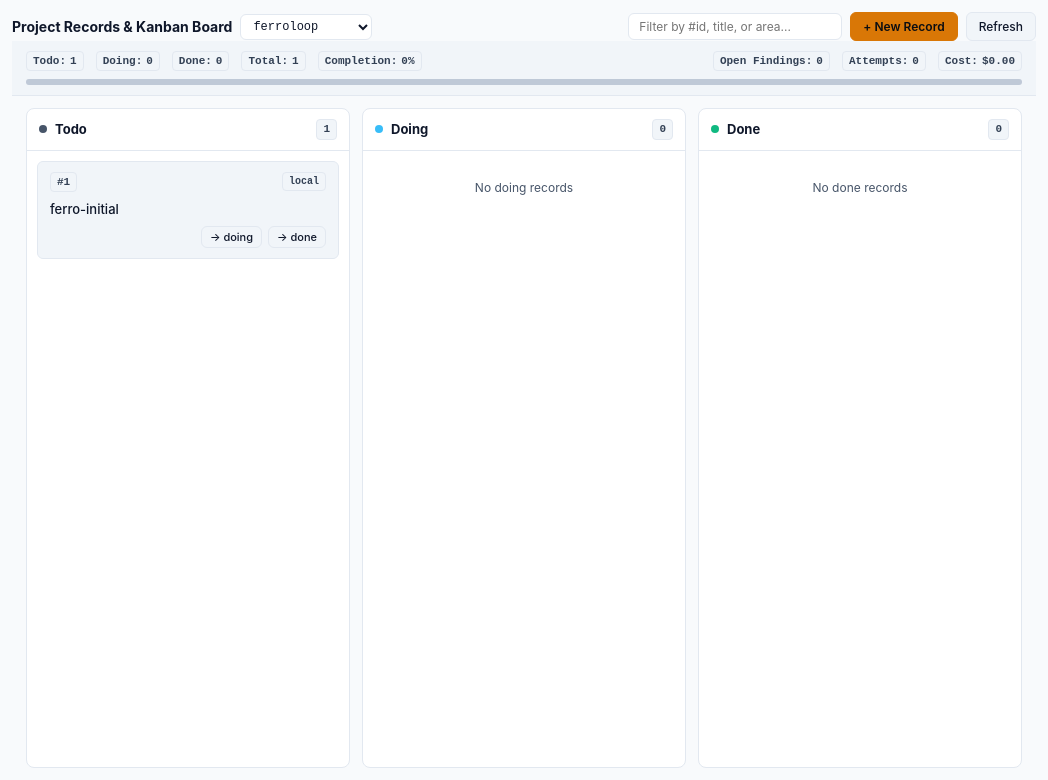
Test: RecordsBoardPane — answers that arrive after the user left the project › keeps the newest project's board when an older load resolves last
Select "sonora" in the dropdown with test id "board-project-select" at (306, 26), box [240,14,372,40]
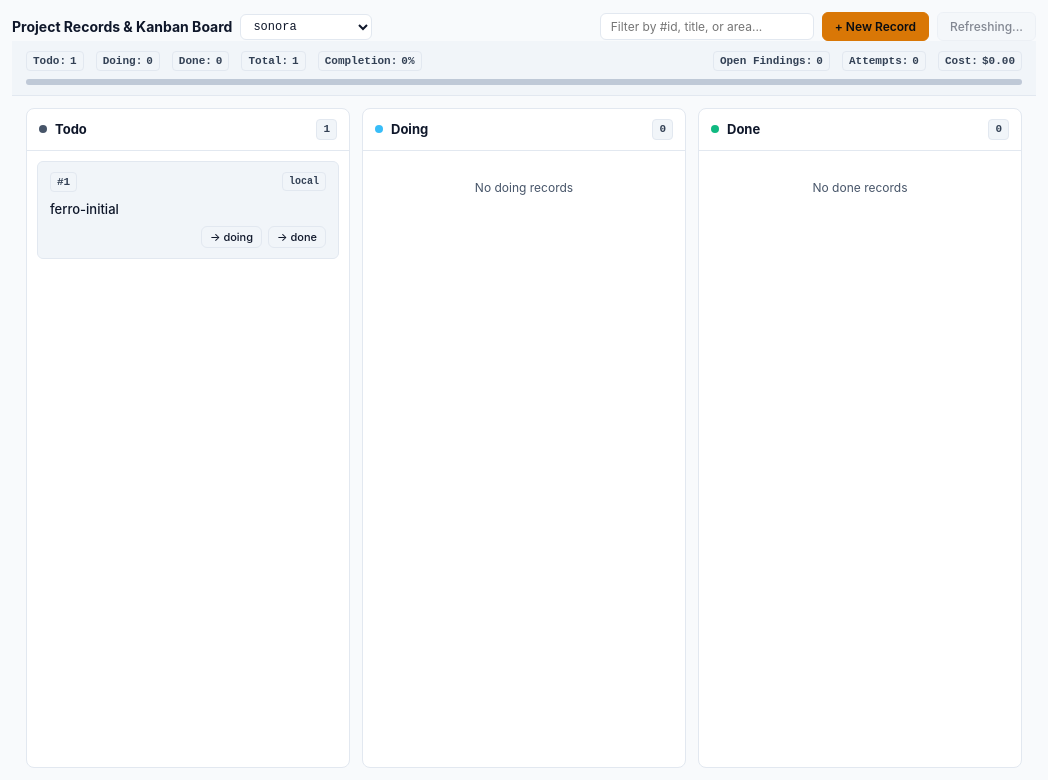
Select "ferroloop" in the dropdown with test id "board-project-select" at (306, 26), box [240,14,372,40]
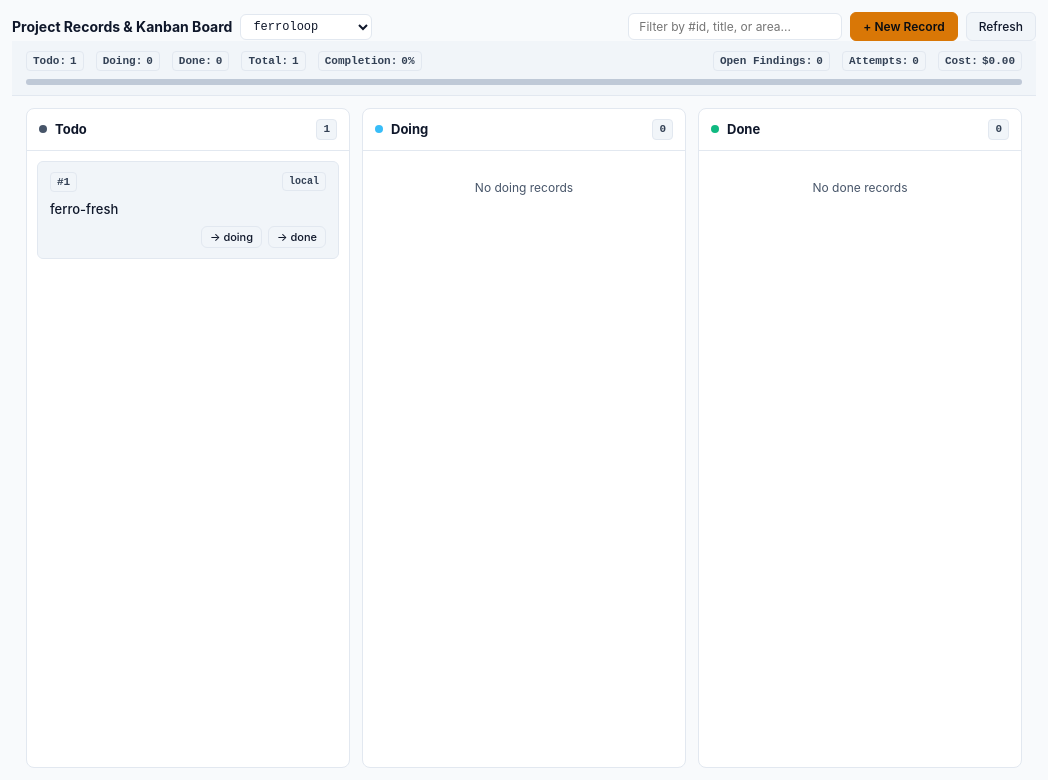
Now the element with test id "^record-card-" shows "ferro-fresh", box [50,201,118,217]
